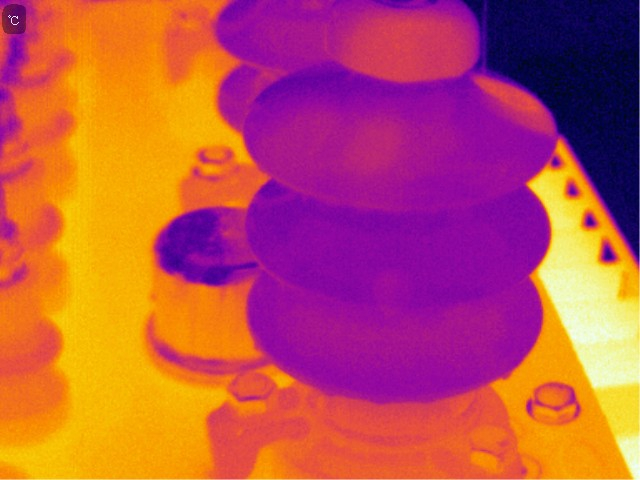Oil: (352, 5, 472, 81), (473, 73, 555, 139), (345, 119, 411, 186), (280, 109, 336, 168), (265, 191, 295, 210), (320, 387, 344, 399), (370, 394, 392, 407), (252, 338, 266, 357), (501, 363, 512, 383), (420, 393, 435, 405)
